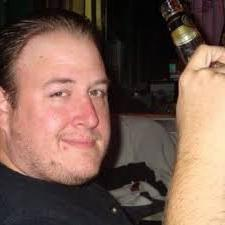Drunk: (35, 38, 109, 180)
